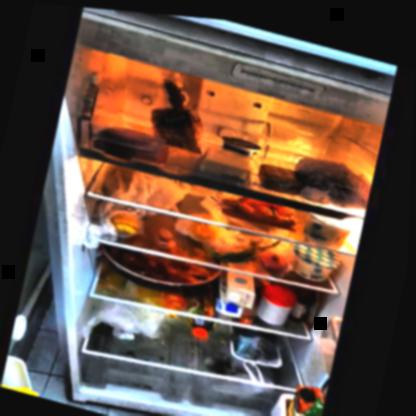broccoli: (231, 320, 286, 361)
butter: (256, 156, 306, 191)
carrot: (222, 184, 302, 226)
cheese: (195, 141, 254, 179)
green_chillies: (208, 232, 268, 268)
lemon: (190, 214, 224, 241), (112, 210, 146, 237)
milk: (214, 257, 262, 316), (295, 410, 324, 415)
salami: (97, 117, 167, 162)
yoghurt: (288, 234, 346, 279), (302, 204, 356, 244), (223, 128, 263, 155)
